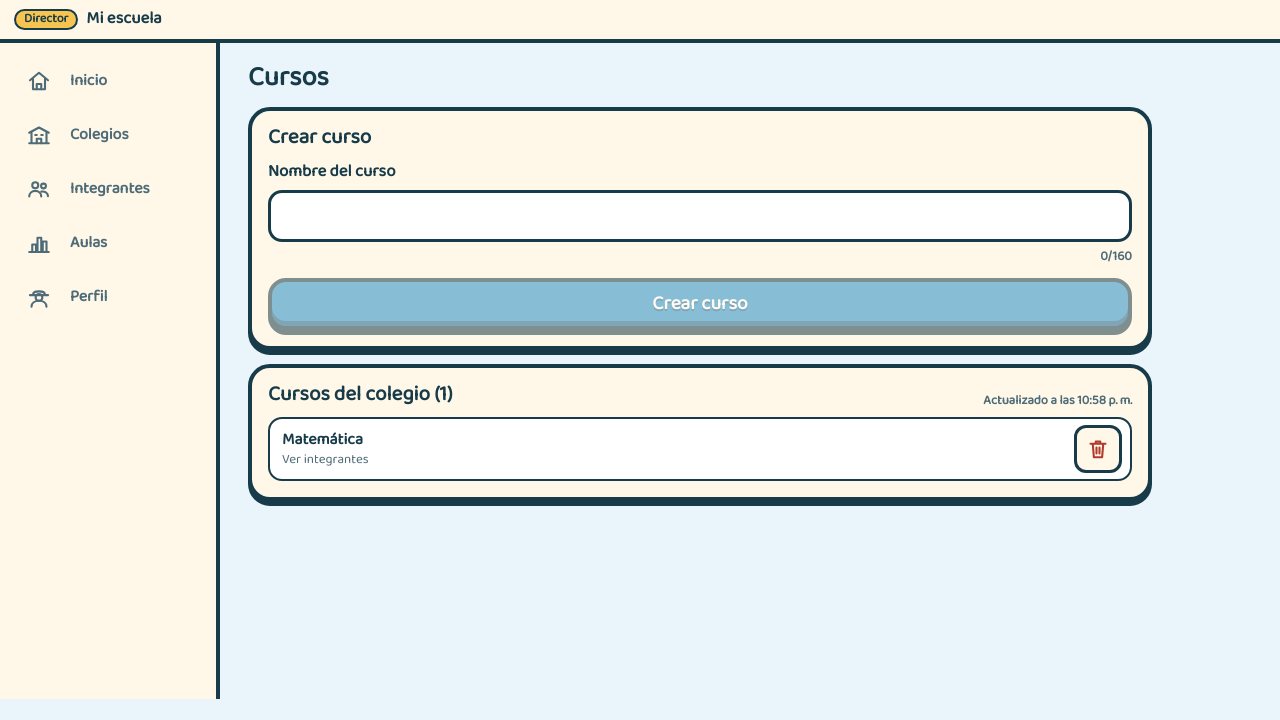
Test case: recorridos de los paneles con contratos HTTP › asignar un profesor al curso utiliza PUT sin cuerpo y acepta 204
The width and height of the screenshot is (1280, 720).
Click the button "Matemática Ver integrantes" at (323,440), box [282,425,1066,473]
(page scrolled)
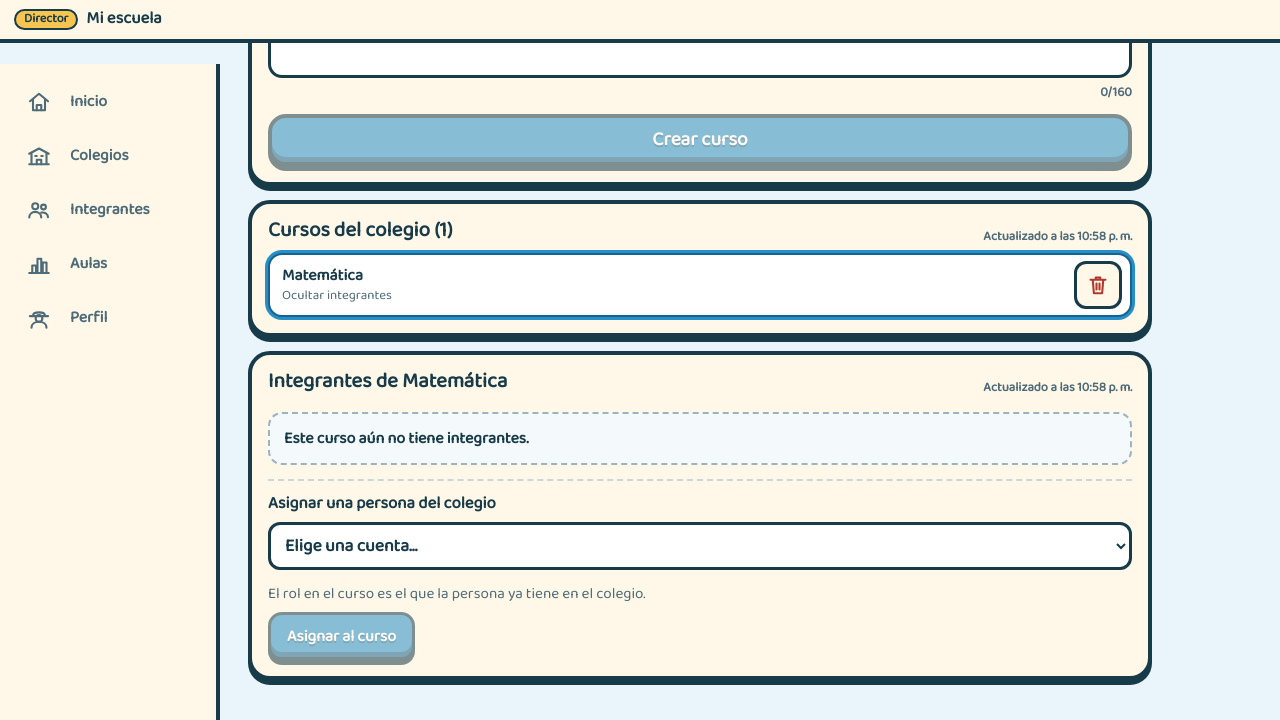
Select "teacher@example.test · Profesor" in the dropdown at (700,546), box [268,522,1132,570]
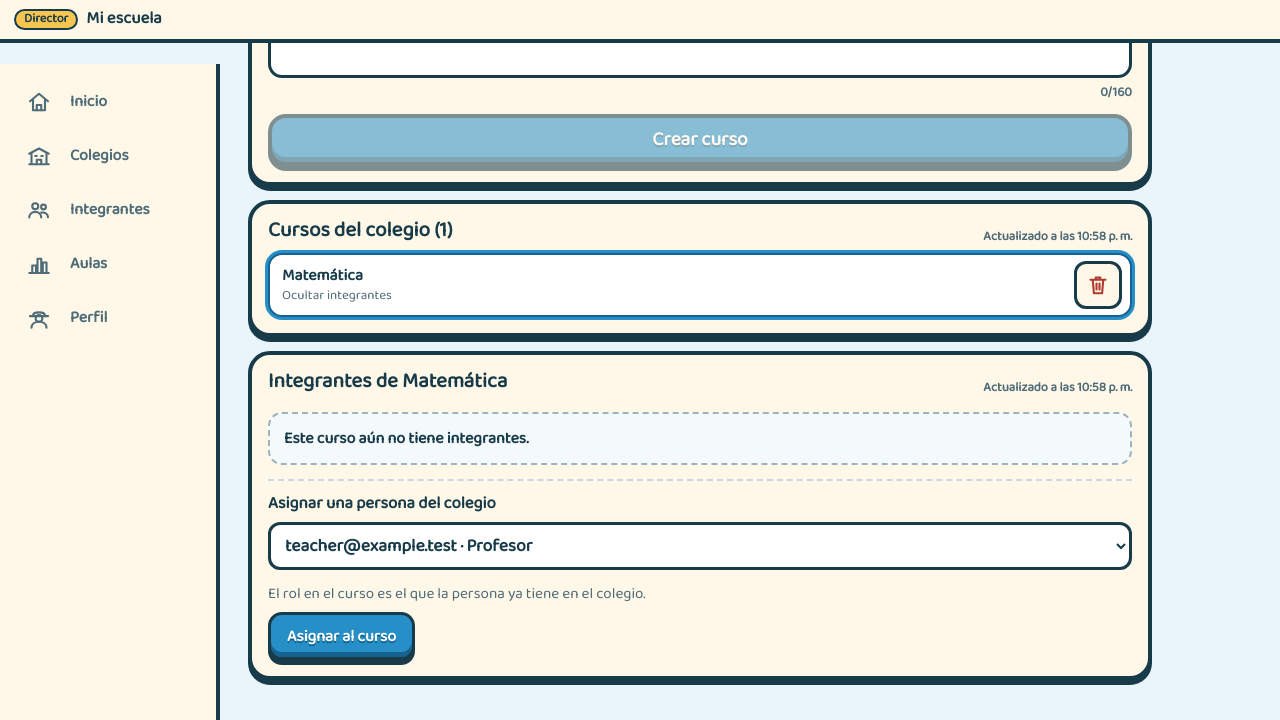
Click the button "Asignar al curso" at (342,636), box [268,612,415,660]
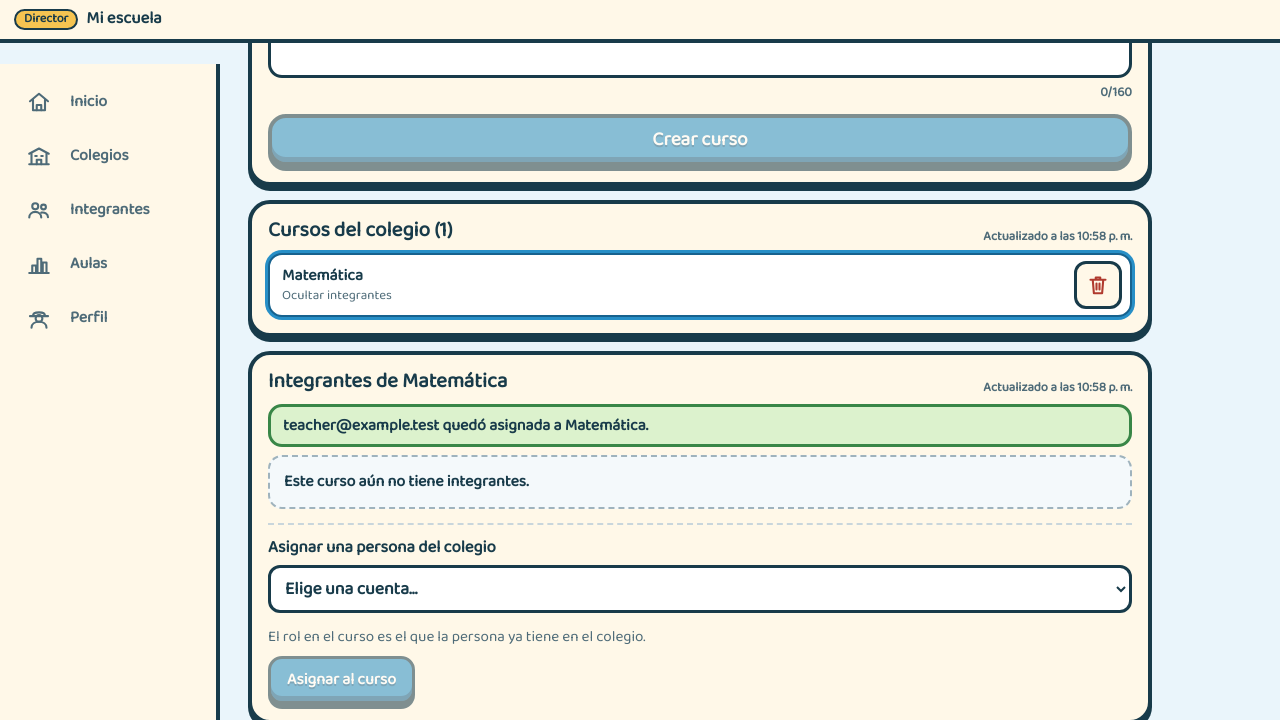
Now the text "teacher@example.test quedó asignada a Matemática." is shown, box [268,404,1132,447]
